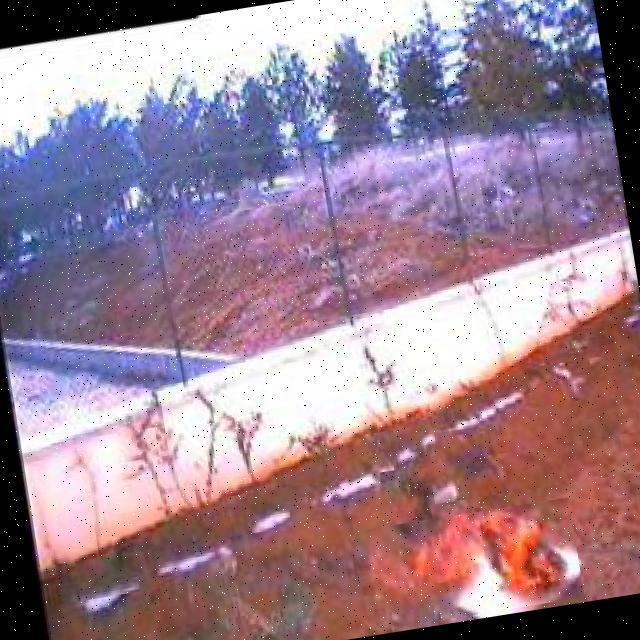fire: (366, 498, 584, 630)
